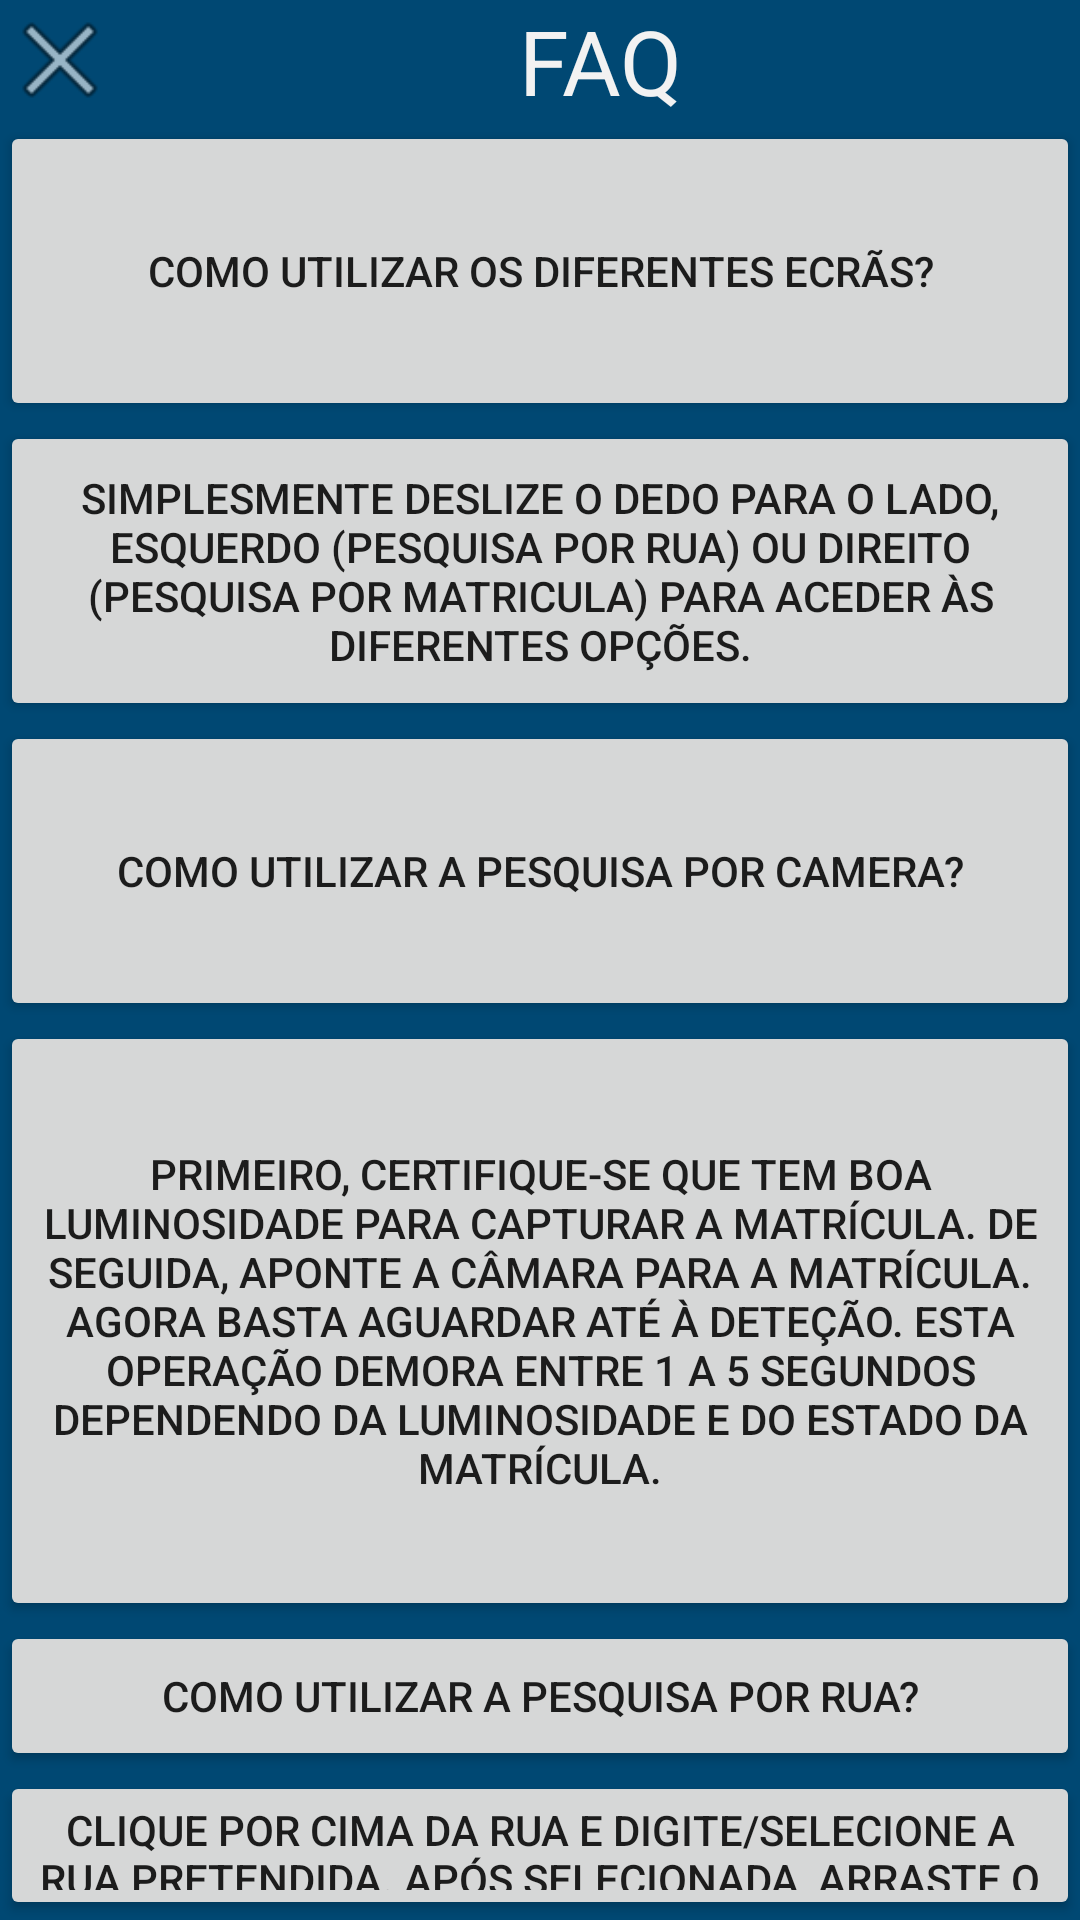

Where to tap for icons on this 1080*1920 app screen, as point (x, y):
close clear cancel: point (60, 60)
